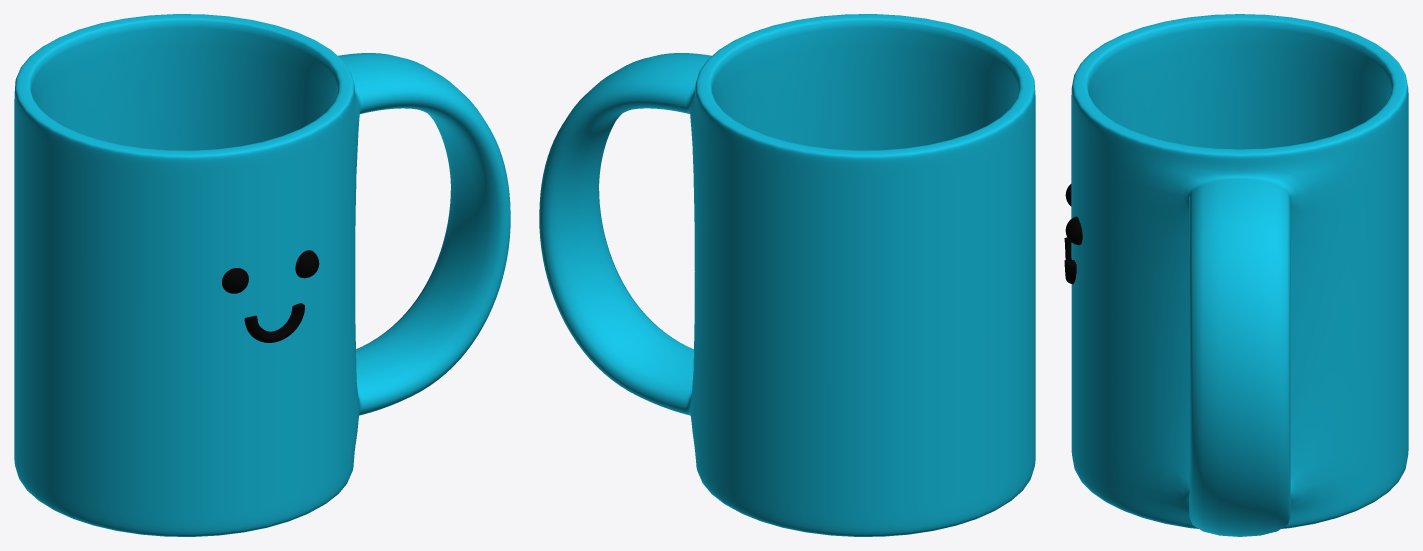
Rendered from TP_Blender_Mug.glb.
The picture shows the model from 3 angles, left to right: view 1: azimuth 30°, elevation 25°; view 2: azimuth 150°, elevation 25°; view 3: azimuth 270°, elevation 25°; orthographic projection.
Visible parts, largest first — view 1: Mug_LP, Bouche; view 2: Mug_LP; view 3: Mug_LP, Bouche.
Part boxes in pixels (box(x1,y1,x2,y2)): Mug_LP: box(14, 14, 510, 536); Bouche: box(244, 303, 304, 342); Mug_LP: box(539, 14, 1035, 536); Mug_LP: box(1071, 14, 1408, 536); Bouche: box(1064, 237, 1076, 284).
Bounding box in the file's own units: 2.91 × 2.34 × 1.91.
